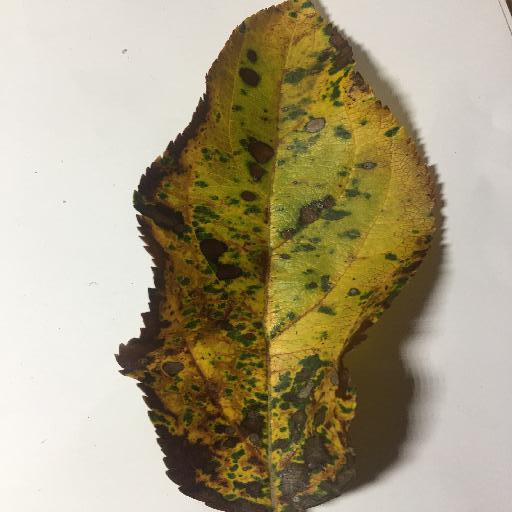Brown_Spot: (122, 281, 357, 506), (141, 189, 262, 286), (314, 24, 383, 99), (280, 189, 358, 237), (240, 133, 282, 182), (233, 53, 267, 89)
